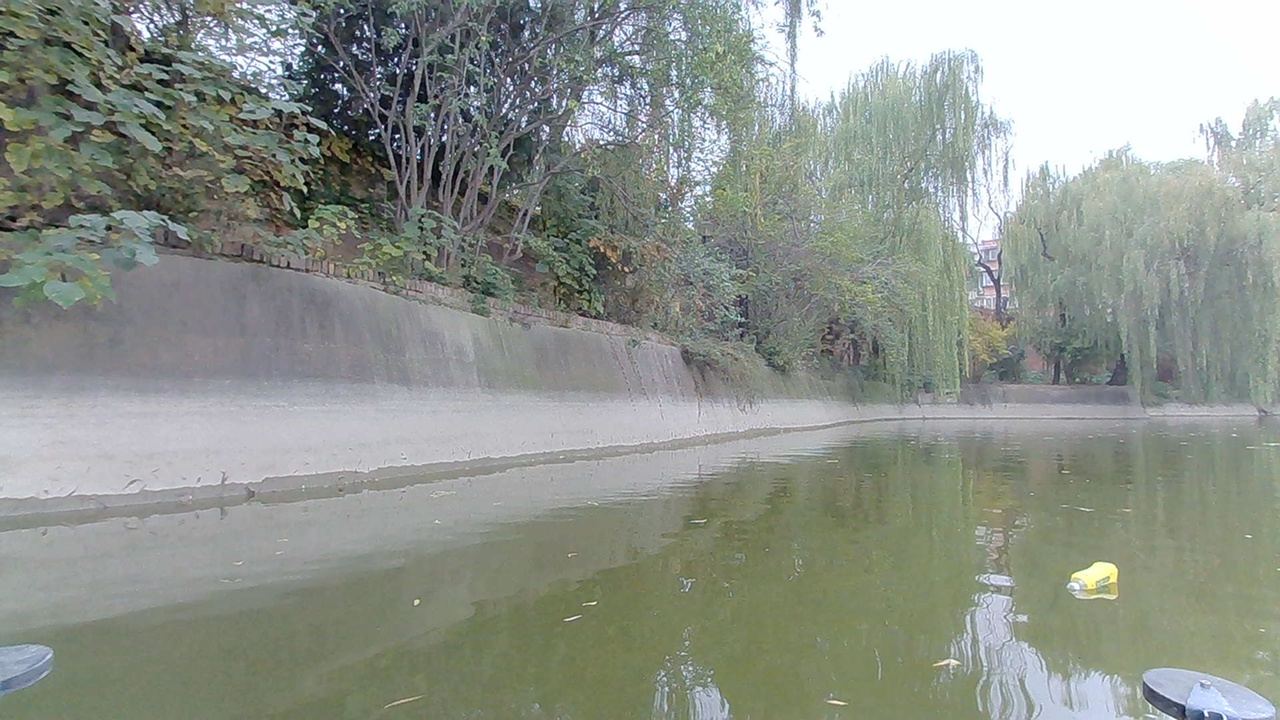bottle: (1059, 552, 1133, 605)
